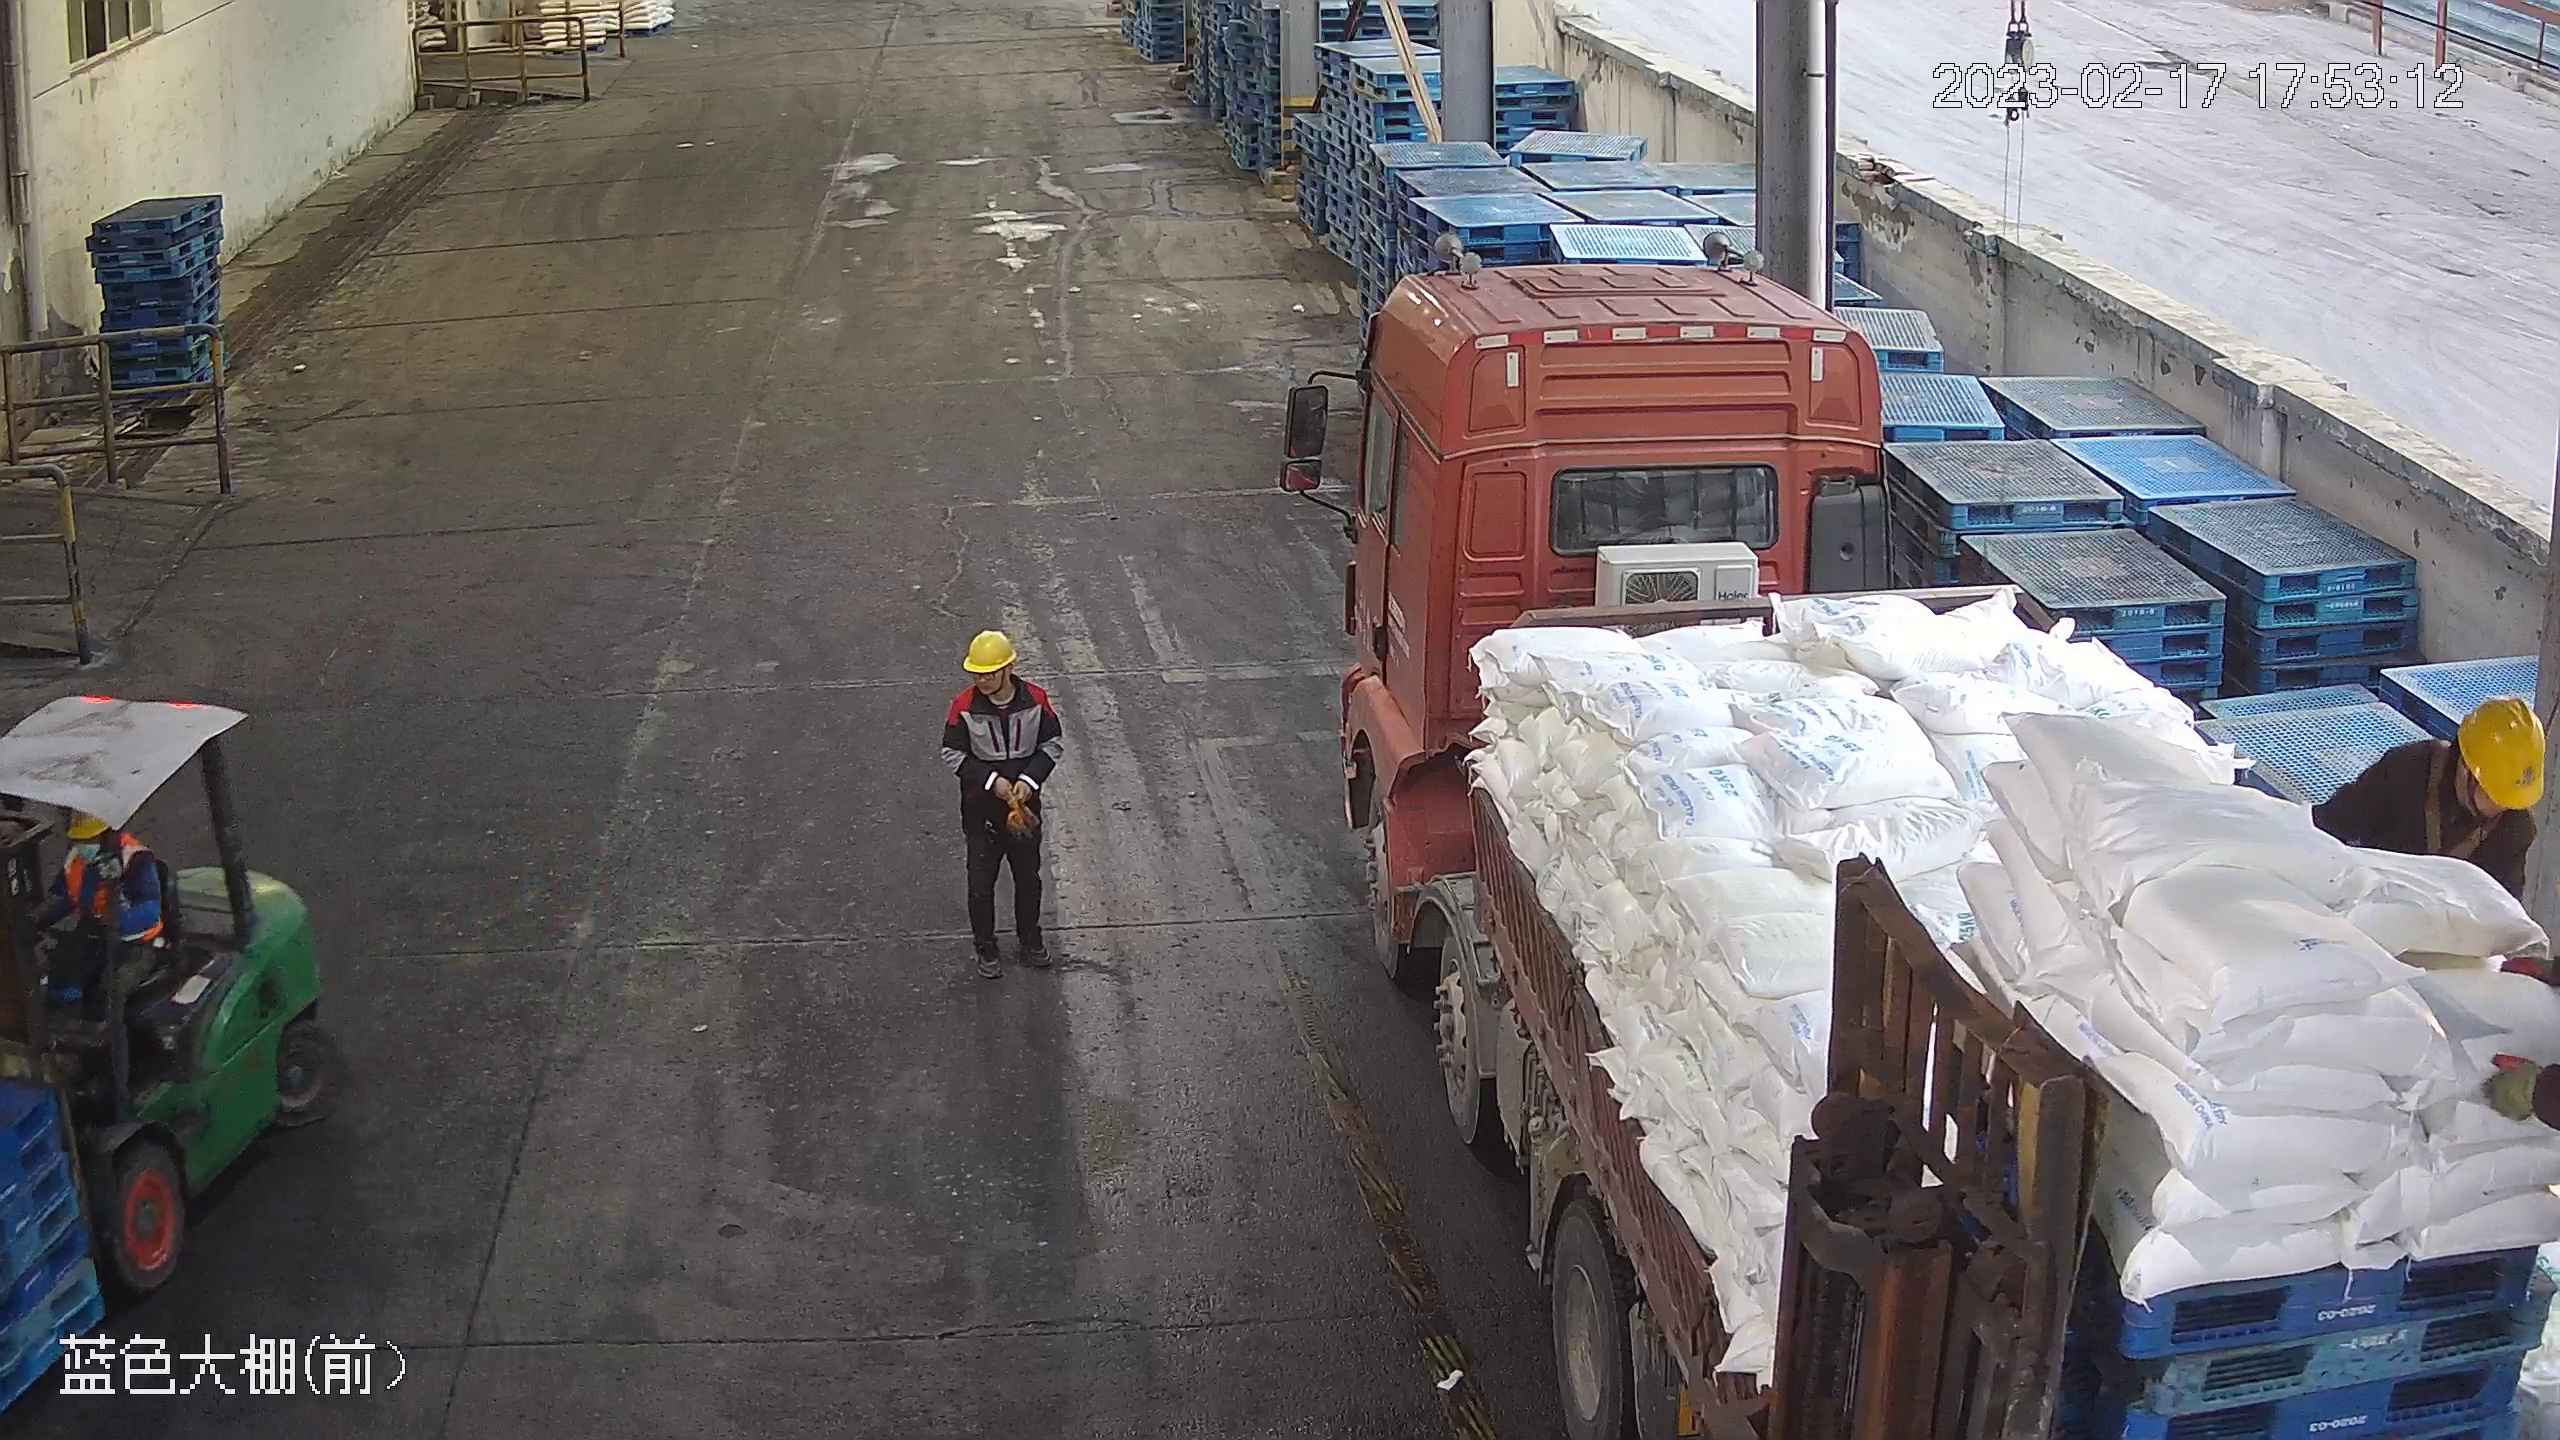belt: (2418, 753, 2506, 869)
head: (2357, 686, 2547, 849), (948, 630, 1053, 725)
helmet: (2458, 691, 2545, 808), (962, 628, 1017, 674)
people: (944, 627, 1063, 977)
truck: (1264, 222, 2557, 1440)
